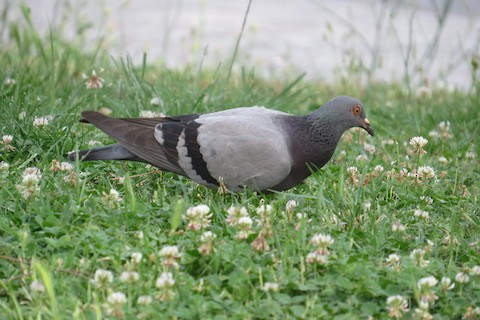pigeon: (68, 91, 379, 207)
